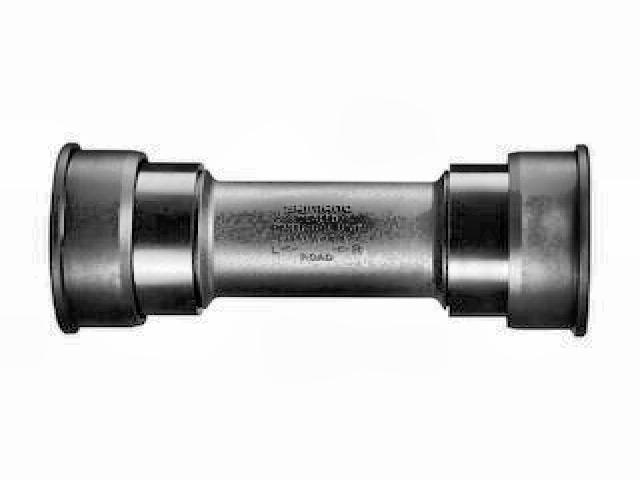bottom_bracket: (47, 141, 594, 338)
